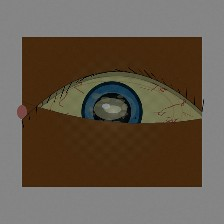corneal_ulcer: (83, 87, 137, 131)
